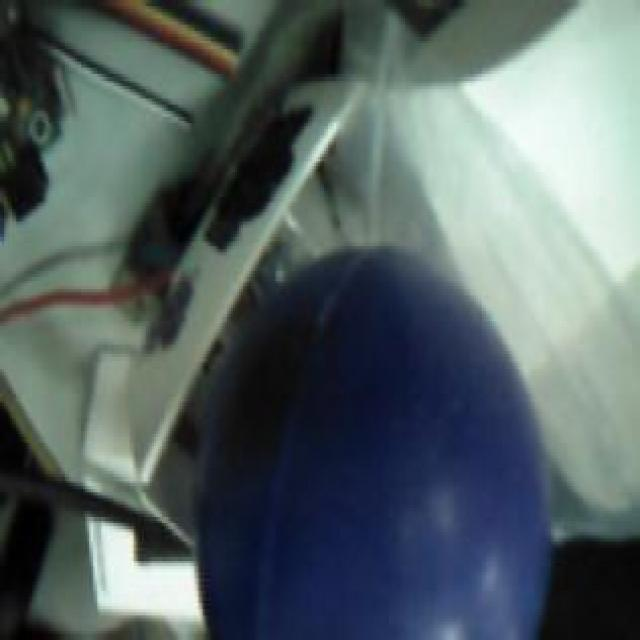BallPurple: (188, 246, 555, 640)
